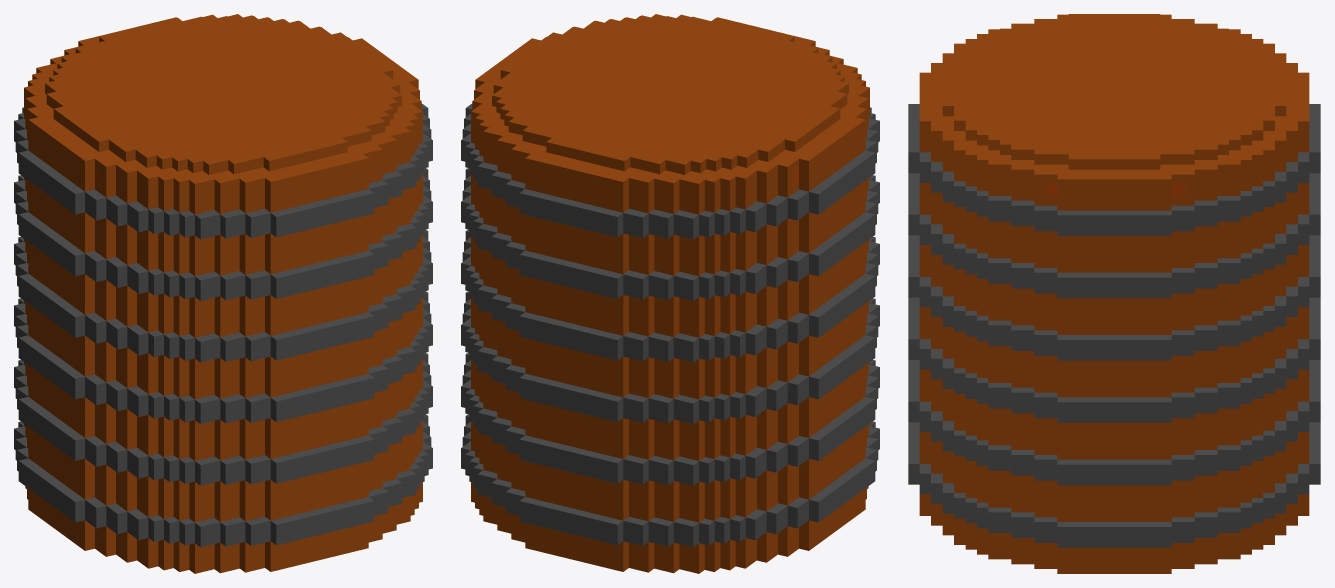
The model's file is barral.fbx.
3 renders of one model, left to right at view 1: azimuth 30°, elevation 25°; view 2: azimuth 150°, elevation 25°; view 3: azimuth 270°, elevation 25°, orthographic.
Visible parts, largest first — view 1: barral1; view 2: barral1; view 3: barral1.
Boxes of the visible parts, x1,y1,x2,y2 form: barral1: (14,14,432,573); barral1: (461,14,879,573); barral1: (908,14,1320,573).
Size of the model in its own units: 36 by 39 by 36.
